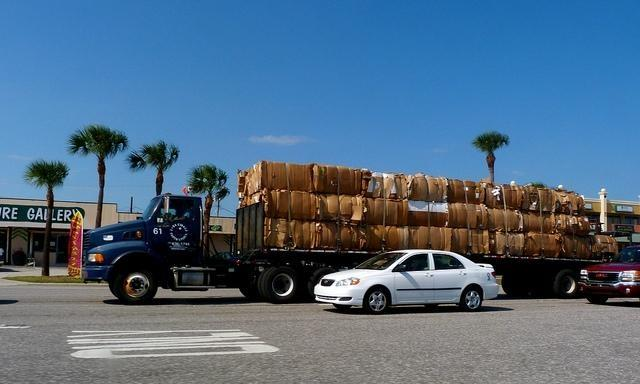car: (315, 249, 501, 316), (583, 245, 640, 298)
truck: (82, 162, 617, 306)
